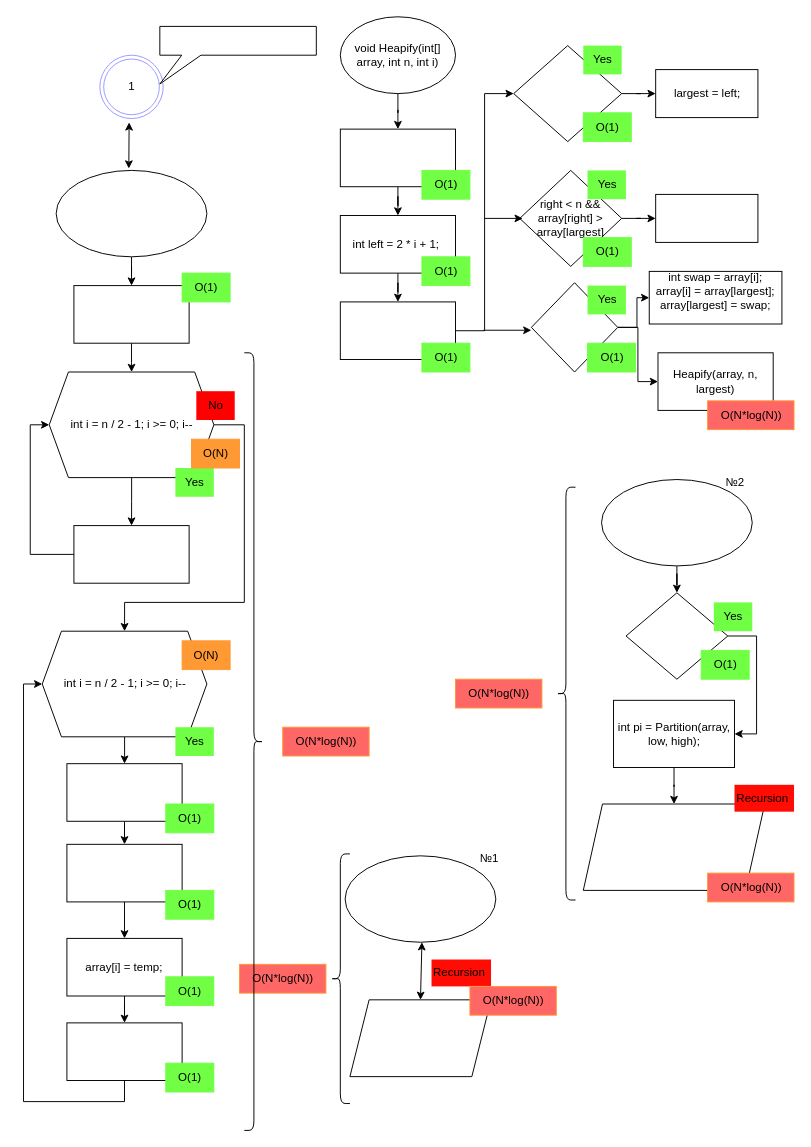
Image size: 811x1147. Some labels were removed from this diagram. The shapes that lost their labels are listed below. From the top down, each one's box as (x1, y1, x2, y2) in pixels, then its label:
(159, 25, 316, 84): Class SortingAlgorithms
(513, 45, 622, 142): left < n && array[left] > array[largest]
(339, 128, 456, 187): int largest = i;
(55, 169, 207, 257): void HeapSort(int[] array)
(655, 193, 758, 242): largest = right;
(73, 285, 189, 343): int n = array.Length;
(339, 301, 456, 360): int right = 2 * i + 2;
(530, 282, 618, 372): largest != i
(601, 479, 752, 566): QuickSort(int[] array, int low, int high)
(73, 525, 189, 583): Heapify(array, n, i);
(625, 592, 728, 679): if (low < high)
(66, 763, 182, 821): int temp = array[0];
(582, 803, 765, 890): QuickSort(array, low, pi - 1); QuickSort(array, pi + 1, high);
(66, 843, 182, 902): array[0] = array[i];
(344, 855, 496, 942): QuickSort(int[] array)
(66, 1022, 182, 1080): Heapify(array, i, 0);
(349, 999, 491, 1077): QuickSort(array, 0, array.Length - 1);
